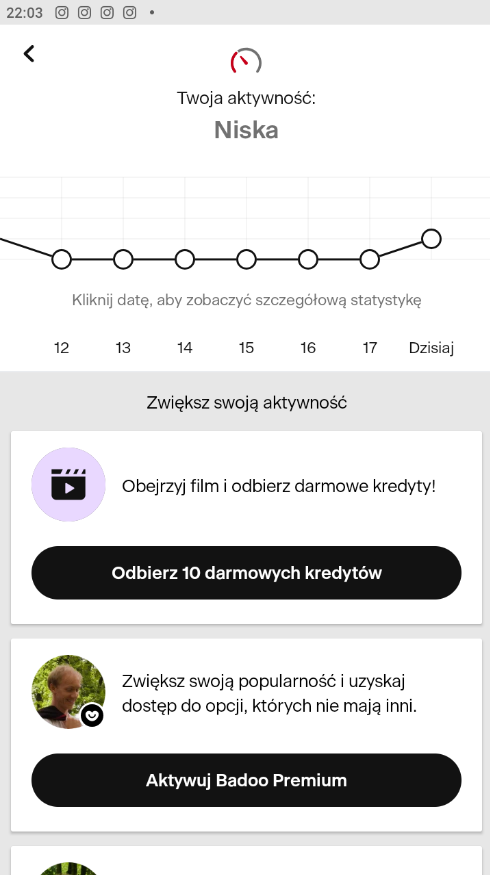kupno_button: (29, 751, 464, 809)
start_button: (34, 545, 460, 602)
